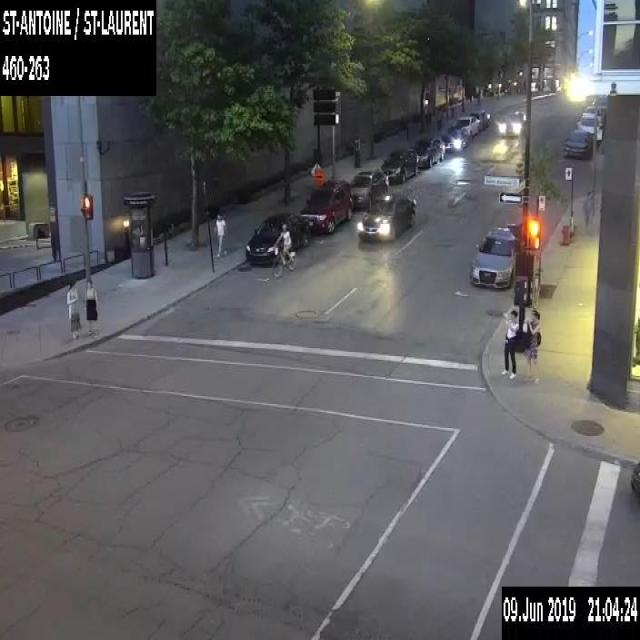construction: (312, 167, 324, 185)
cyclist: (271, 223, 296, 278)
pedestrian: (522, 307, 541, 385), (500, 307, 520, 380), (65, 277, 81, 340), (84, 279, 99, 332), (213, 211, 227, 257), (582, 188, 594, 232)
vehicle: (246, 211, 308, 265), (470, 225, 517, 288), (298, 179, 352, 233), (357, 192, 416, 238), (349, 169, 388, 207), (379, 148, 418, 182), (412, 136, 444, 167), (563, 128, 592, 158), (574, 114, 602, 140), (499, 110, 523, 138), (442, 127, 467, 150), (456, 115, 479, 138), (581, 104, 605, 125), (468, 108, 489, 130), (629, 460, 639, 496)
